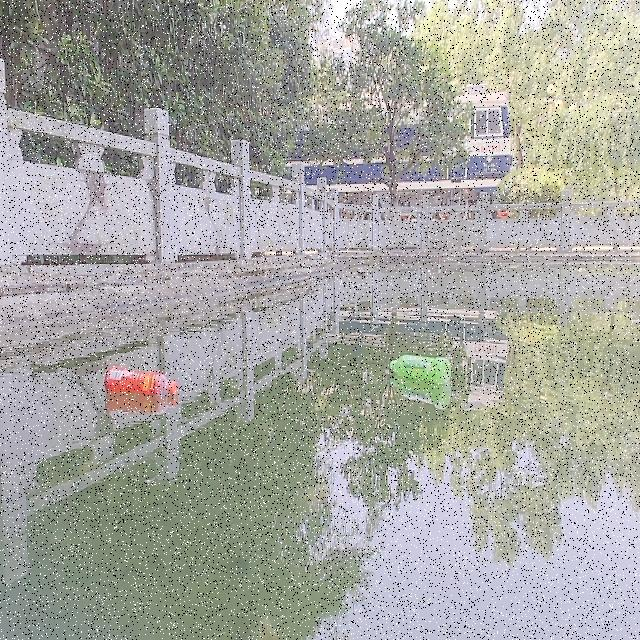Bottle: (103, 366, 177, 394), (386, 353, 452, 384)
